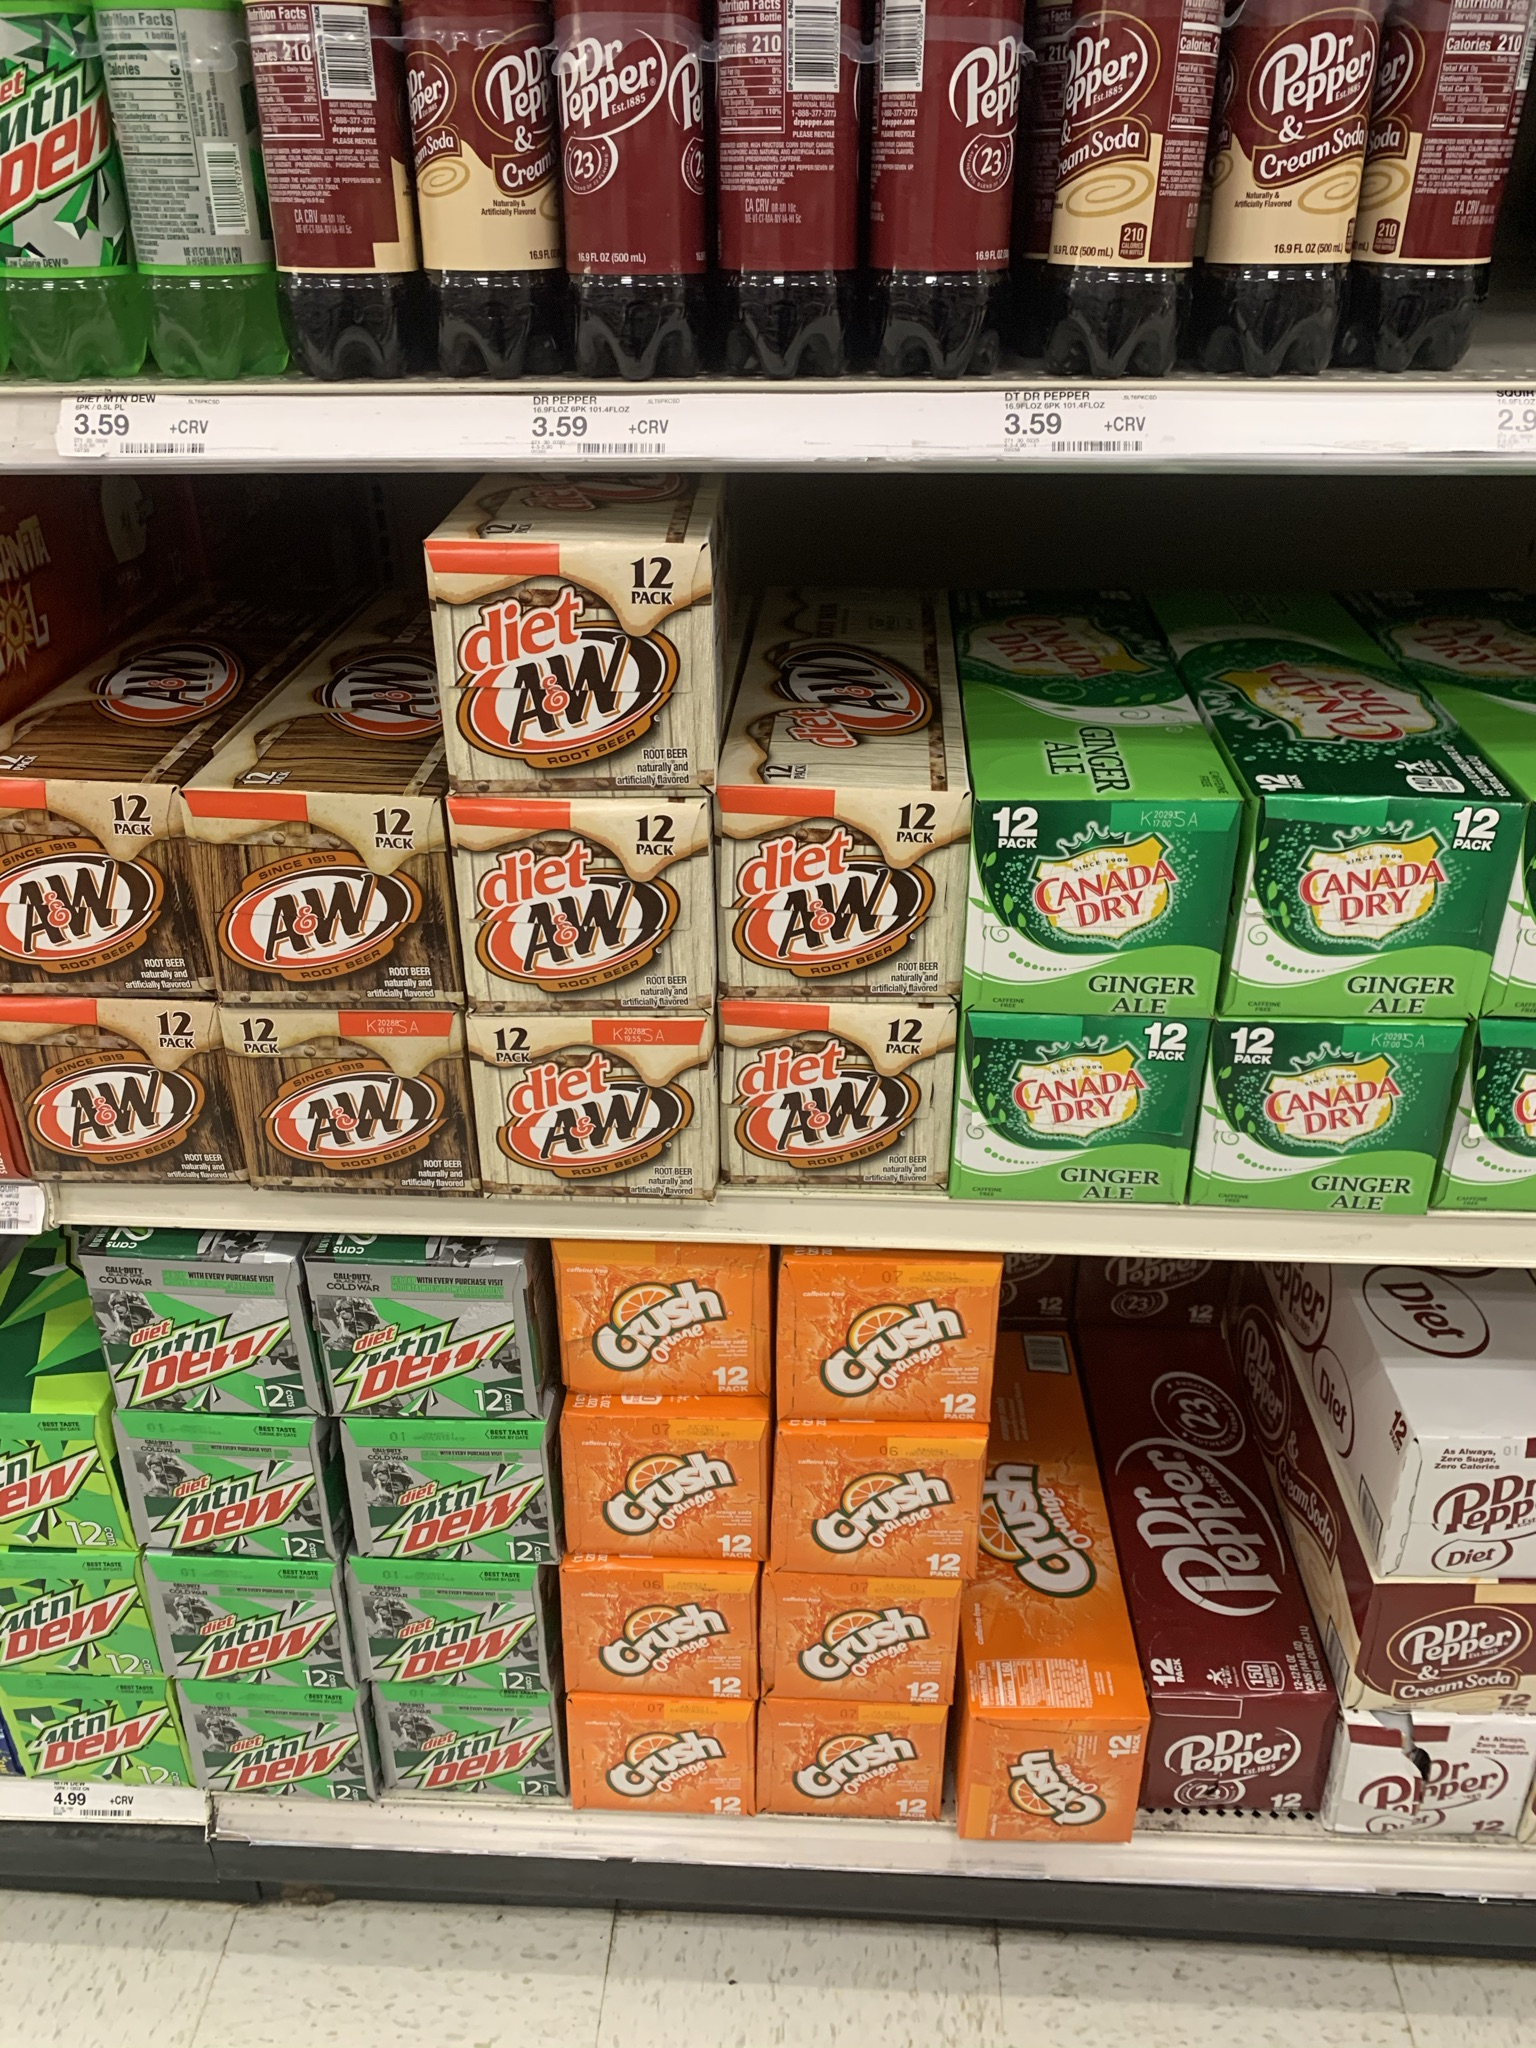box: (450, 797, 718, 1016), (712, 785, 962, 1009), (970, 795, 1221, 1013), (453, 540, 684, 772), (465, 1014, 718, 1200), (954, 1009, 1189, 1205), (718, 1005, 950, 1193), (1265, 814, 1483, 1009), (218, 793, 413, 987), (553, 1235, 774, 1403), (773, 1413, 983, 1579), (106, 1255, 319, 1417), (1228, 1040, 1431, 1206), (558, 1397, 765, 1559), (244, 1018, 450, 1180), (123, 1414, 337, 1558), (19, 1014, 205, 1177), (2, 797, 165, 972), (560, 1558, 758, 1700), (760, 1577, 960, 1705), (561, 1693, 760, 1816), (153, 1564, 352, 1685), (960, 1714, 1142, 1842), (174, 1677, 369, 1795), (757, 1705, 944, 1817), (1146, 1701, 1325, 1813), (1383, 1605, 1536, 1717), (1413, 1442, 1536, 1576), (2, 1426, 94, 1550), (15, 1698, 136, 1784), (2, 1571, 110, 1664)
